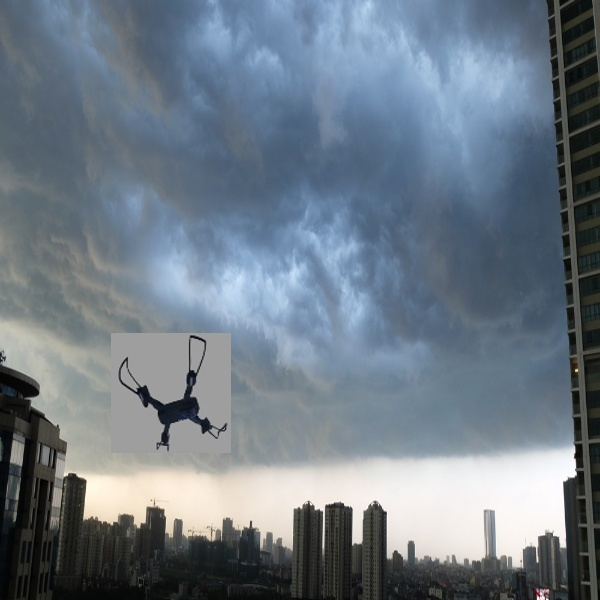drone: (115, 332, 230, 451)
